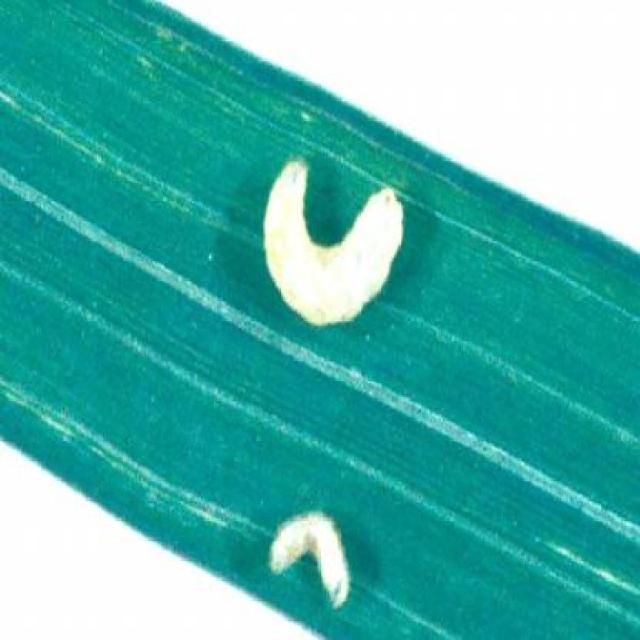whorl-maggot: (262, 150, 410, 328), (260, 504, 354, 621)
